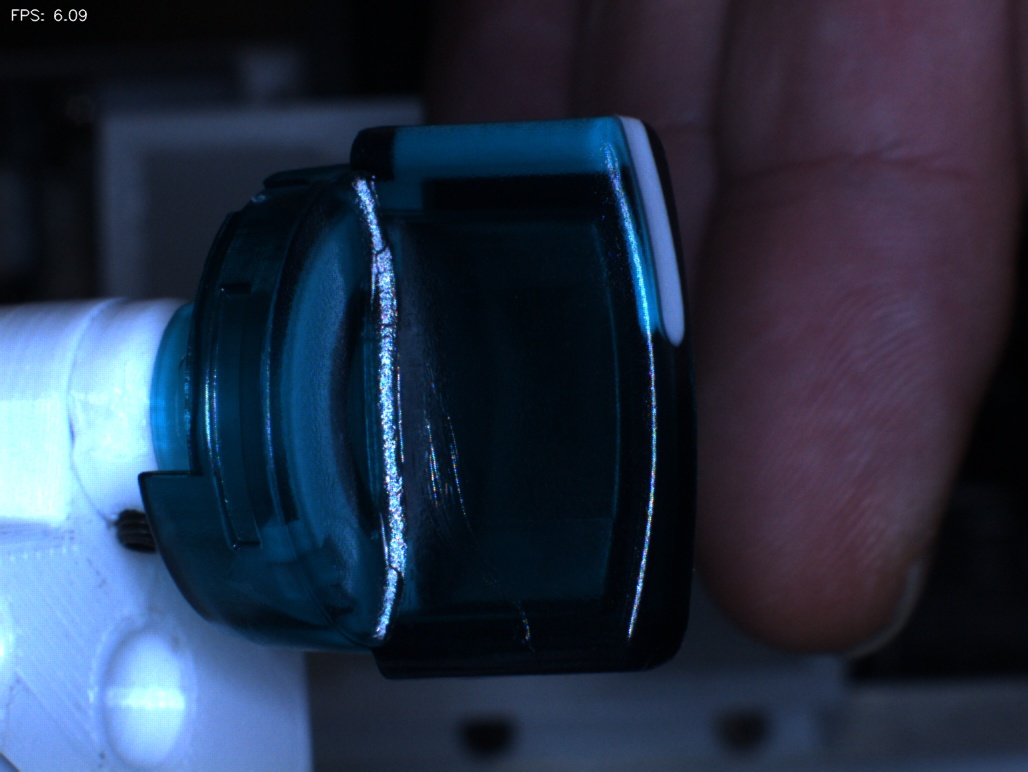Givrage: (417, 374, 543, 654)
